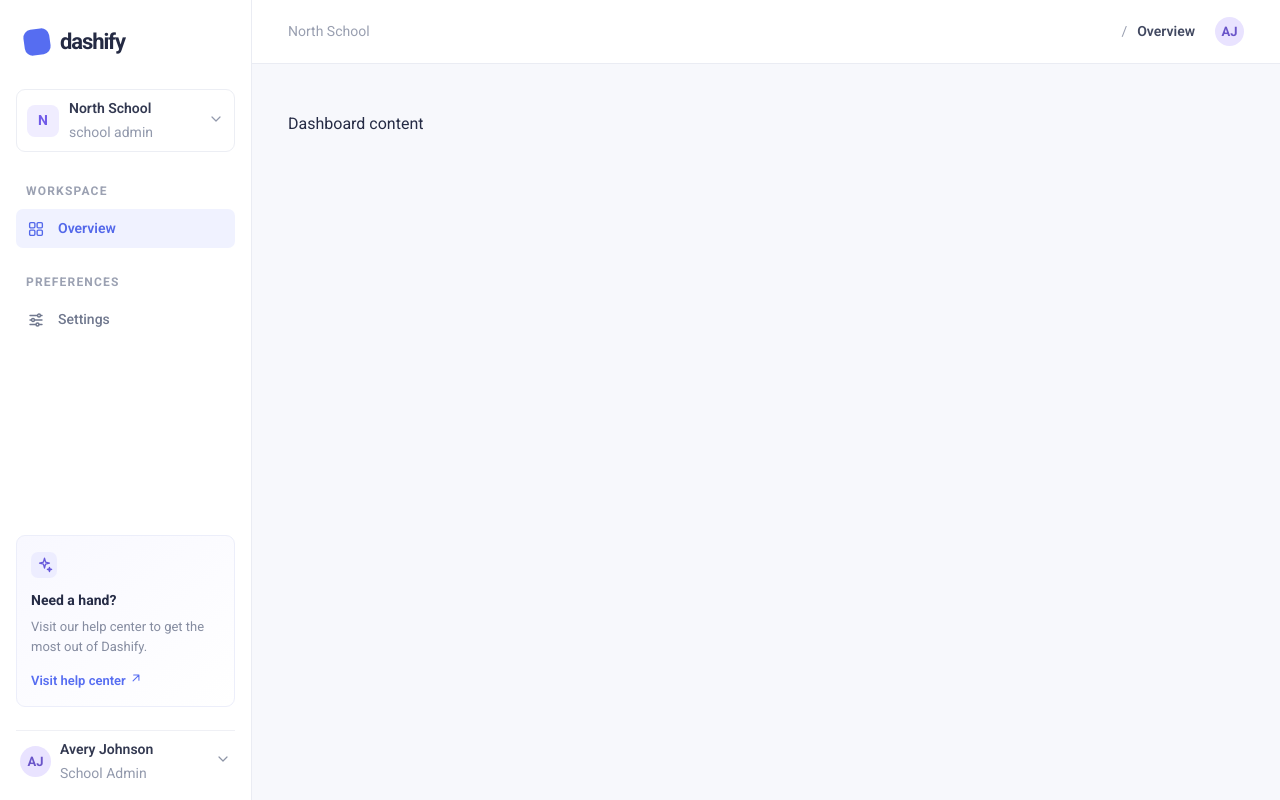
auth session and workspace UI › keeps the dashboard open and displays an error when logout fails
Click the button with aria-label "Signed in as Avery Johnson" at (126, 757), box [16,730,235,784]
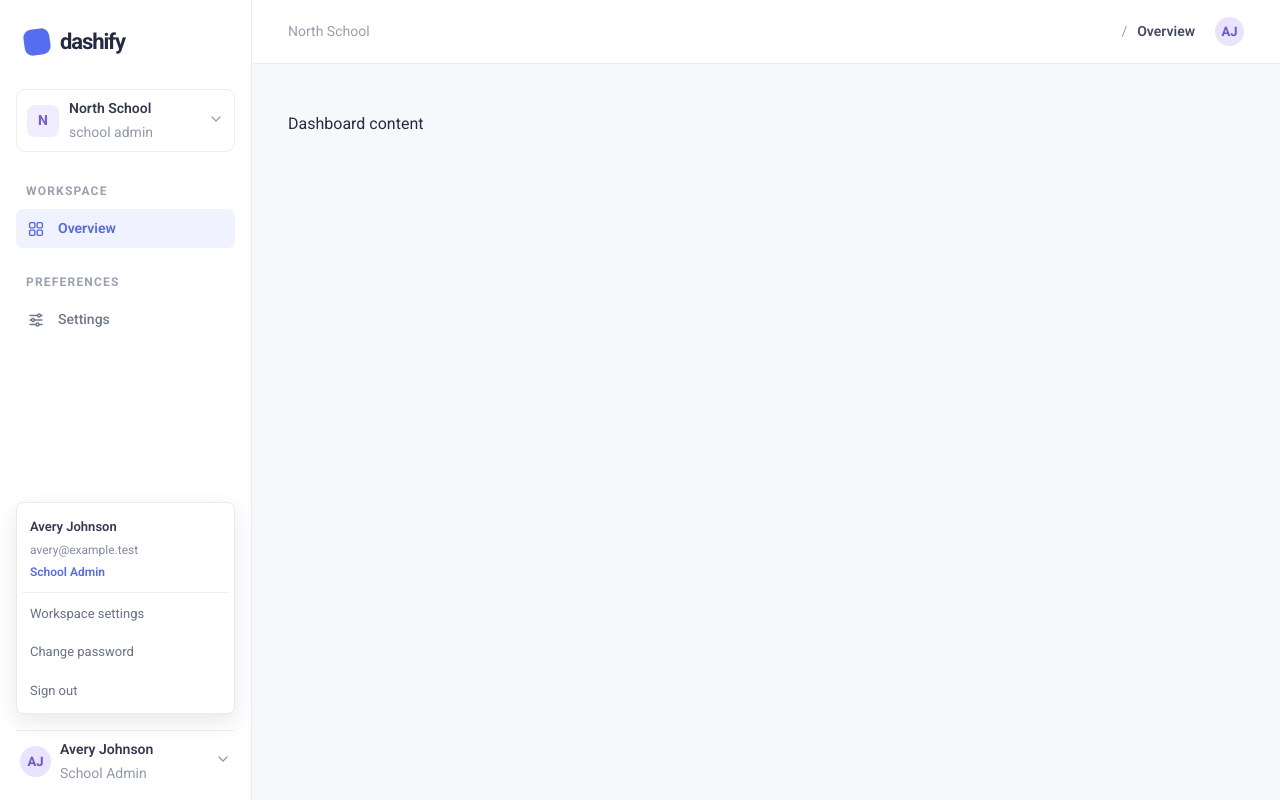
Click the button "Sign out" at (126, 690), box [22,672,229,708]
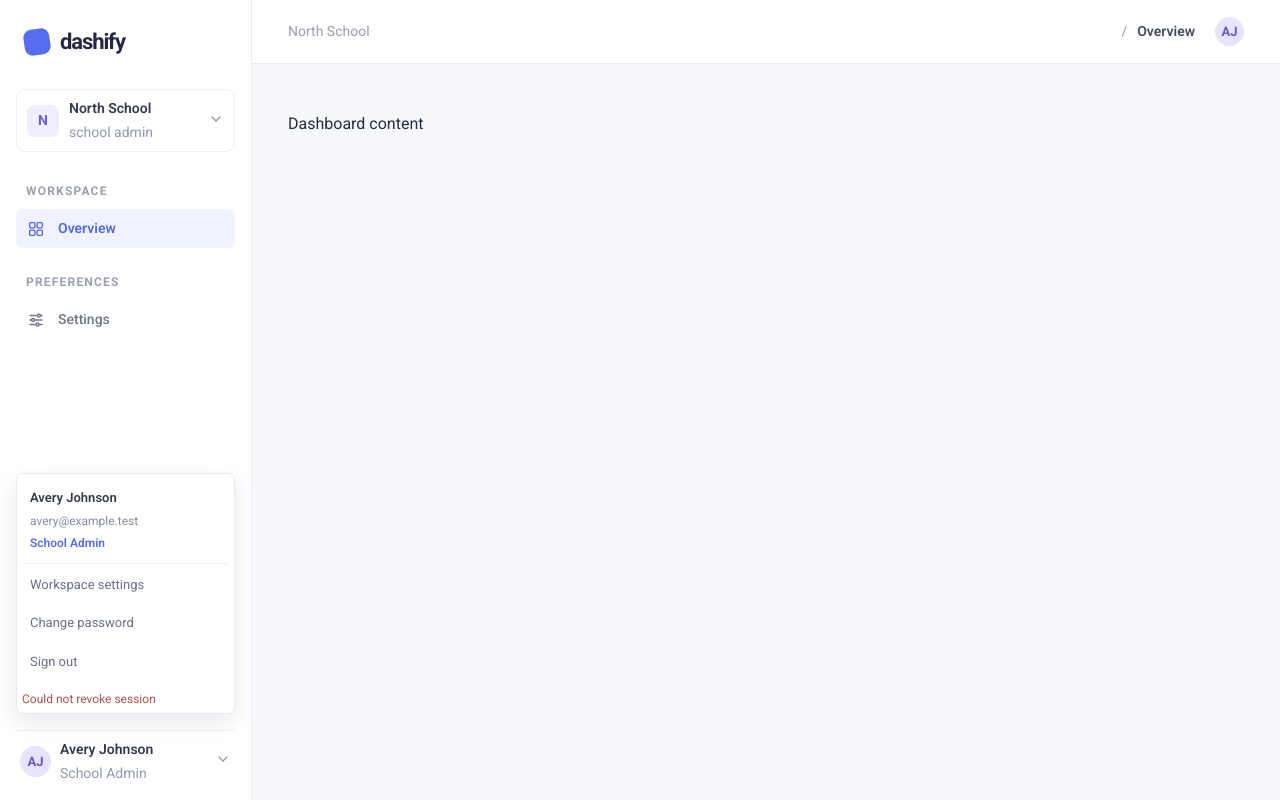
Check: the text "Dashboard content" is shown, box [288,114,424,133]
Check: the message reads "Could not revoke session", box [22,692,156,706]
